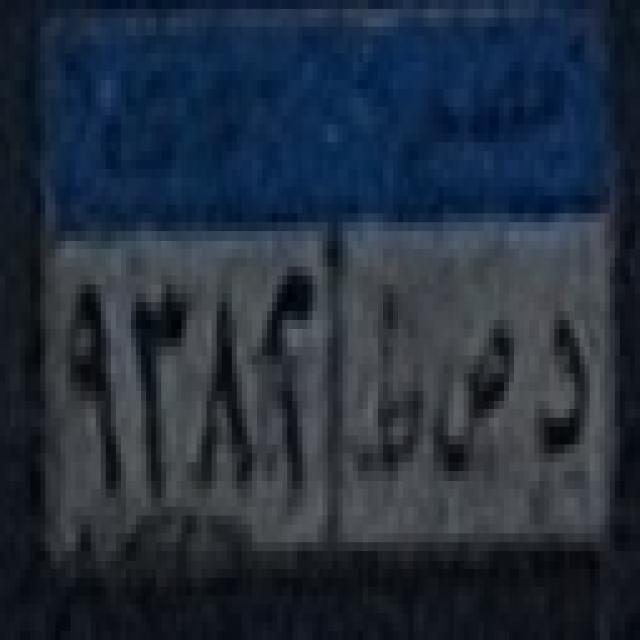2: (253, 255, 325, 504)
3: (128, 265, 206, 510)
8: (198, 276, 262, 508)
9: (66, 278, 132, 508)
Saad: (426, 292, 526, 488)
Taa: (354, 284, 428, 490)
daal: (532, 288, 597, 467)
